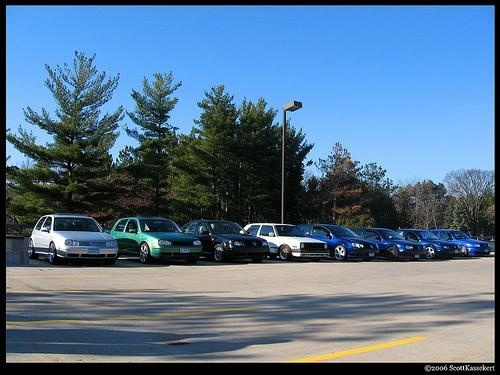car: (25, 216, 121, 266), (111, 219, 203, 264), (178, 219, 270, 262), (242, 223, 333, 260), (293, 226, 380, 261), (351, 230, 429, 261), (394, 230, 467, 261), (433, 231, 492, 258)
